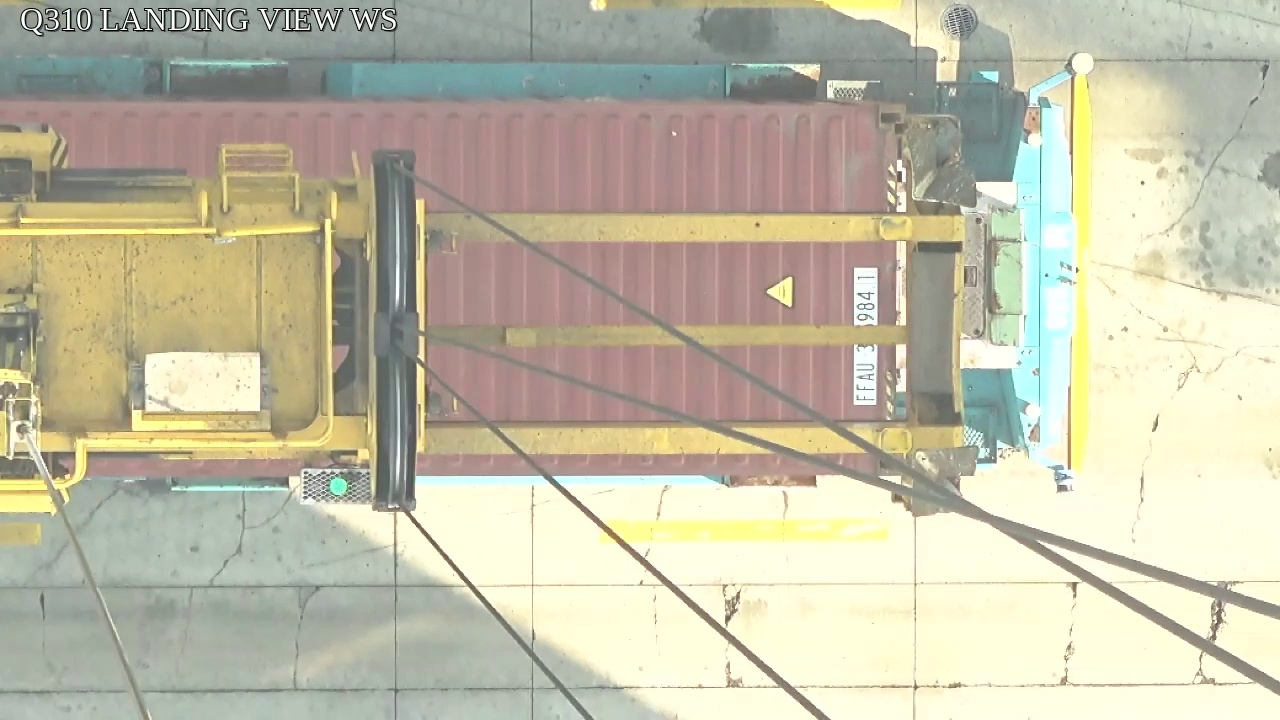right: (368, 149, 421, 514)
